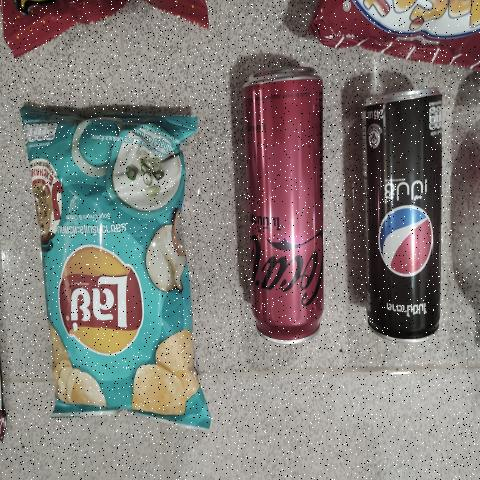coke_red: (245, 73, 327, 338)
lay_blue: (28, 116, 196, 416)
pepsi_black: (359, 91, 444, 350)
